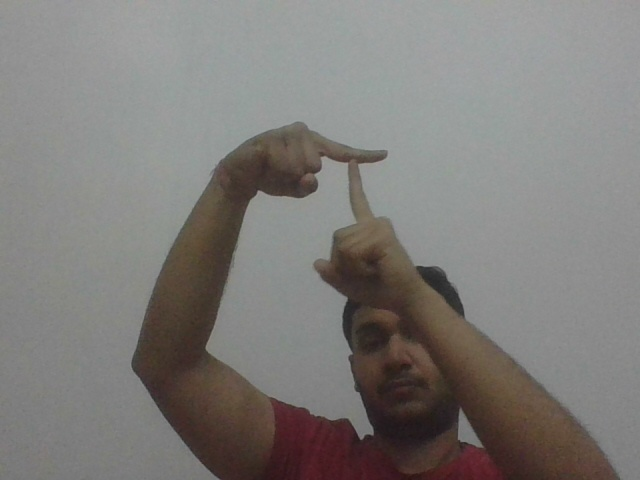T: (323, 131, 392, 214)
